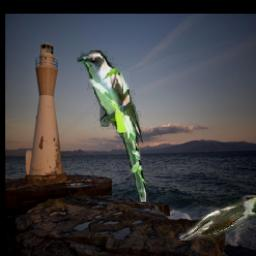Cuckoo: (78, 50, 147, 202), (179, 196, 256, 241)
